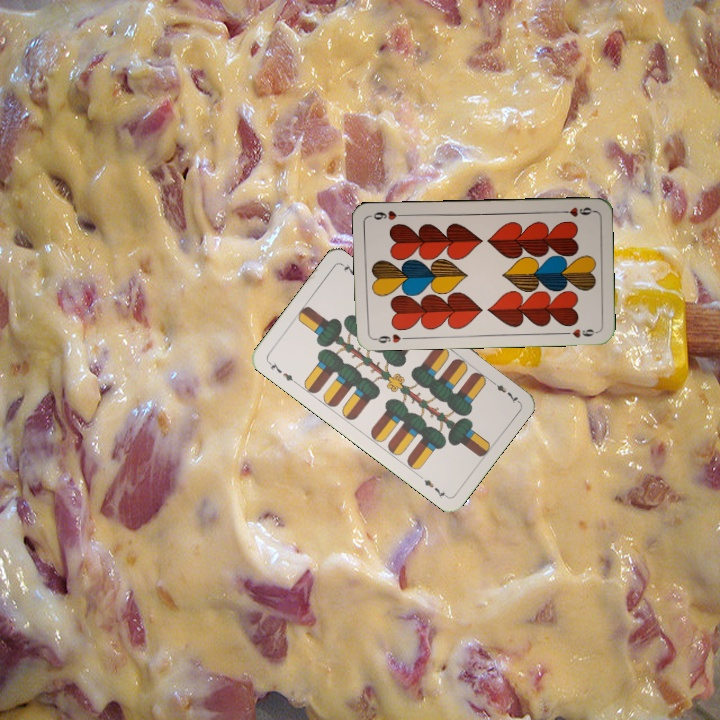E7: (486, 375, 521, 406), (264, 357, 299, 386)
H9: (556, 203, 596, 219), (370, 330, 403, 346)
